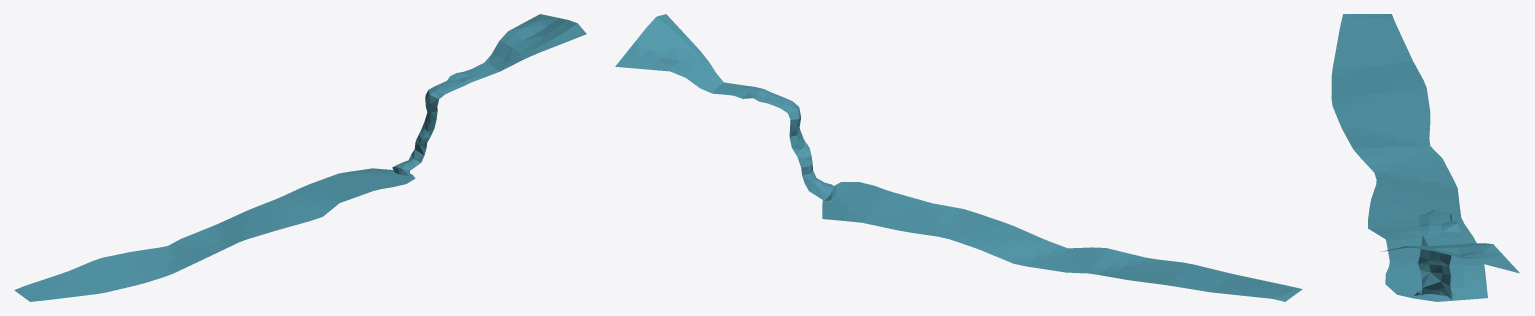
File: WaterMesh.fbx
3 views of the same model, side by side, from view 1: azimuth 30°, elevation 25°; view 2: azimuth 150°, elevation 25°; view 3: azimuth 270°, elevation 25° (orthographic). The views are drawn at different scales.
Visible parts, largest first — view 1: River, Waterfall; view 2: River, Waterfall; view 3: River, Waterfall.
Boxes of the visible parts, left/top/right/bottom form: River: left=14, top=168, right=415, bottom=301; Waterfall: left=392, top=14, right=586, bottom=175; River: left=822, top=182, right=1302, bottom=301; Waterfall: left=615, top=14, right=836, bottom=200; River: left=1331, top=14, right=1487, bottom=301; Waterfall: left=1381, top=210, right=1519, bottom=299.
Size of the model in its own units: 90.98 by 20.07 by 17.24.
